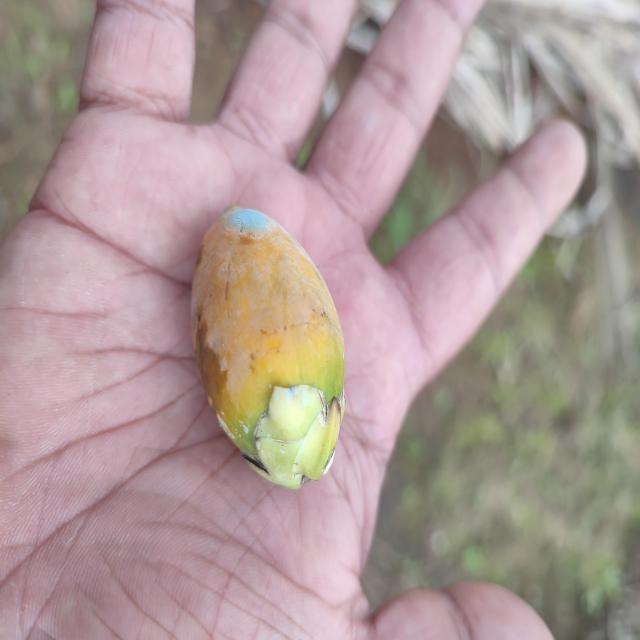good: (190, 207, 347, 493)
